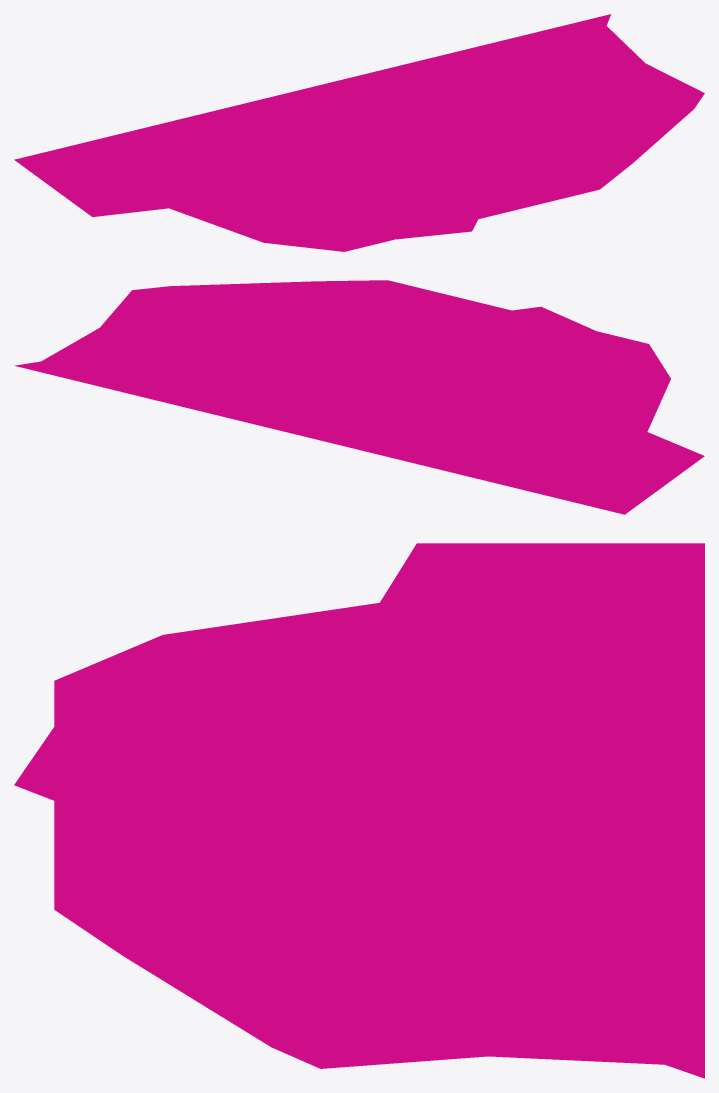
Rendered from Parchment_P_02.fbx.
3 views of the same model, one above another, from view 1: azimuth 30°, elevation 25°; view 2: azimuth 150°, elevation 25°; view 3: azimuth 270°, elevation 25° (orthographic). The views are drawn at different scales.
Visible parts, largest first — view 1: Parchment_P_02; view 2: Parchment_P_02; view 3: Parchment_P_02.
Boxes of the visible parts, bbox=[...] form: Parchment_P_02: bbox=[14, 14, 704, 251]; Parchment_P_02: bbox=[14, 280, 704, 514]; Parchment_P_02: bbox=[14, 543, 704, 1078].
Bounding box in the file's own units: 36.12 × 6.86e-15 × 19.69.
